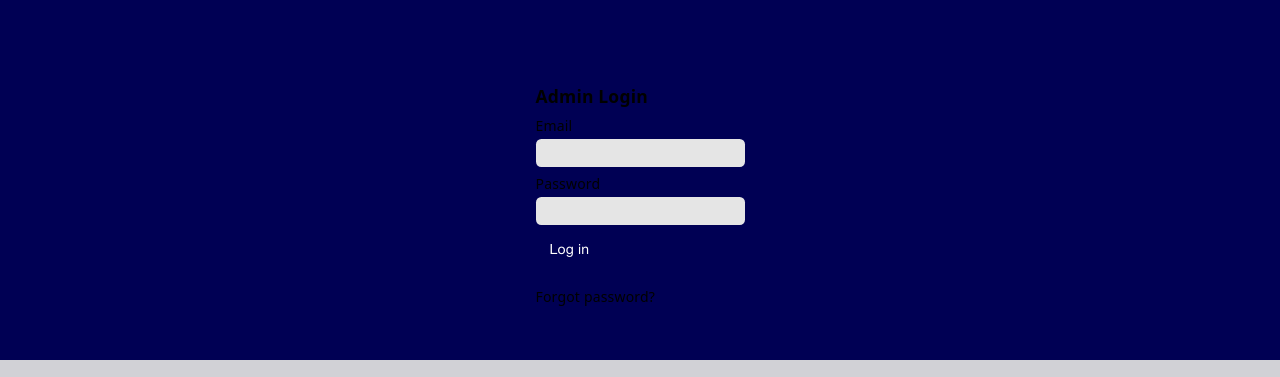
Test case: AdminLoginPage › logging in › shows the status when the server gives no error message
Type "admin@example.com" into the field labelled "Email" at (640, 153), box [536,139,744,167]
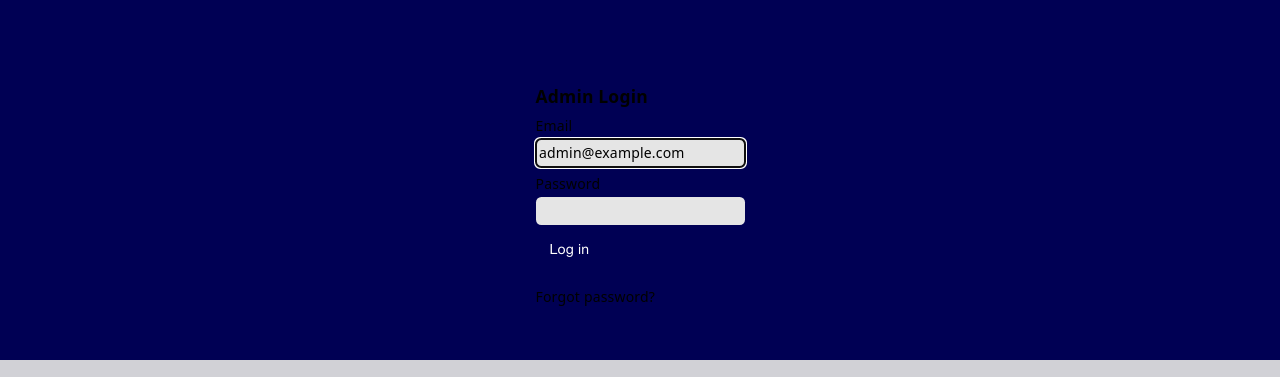
Type "secret123" into the password field labelled "Password" at (640, 211), box [536,197,744,225]
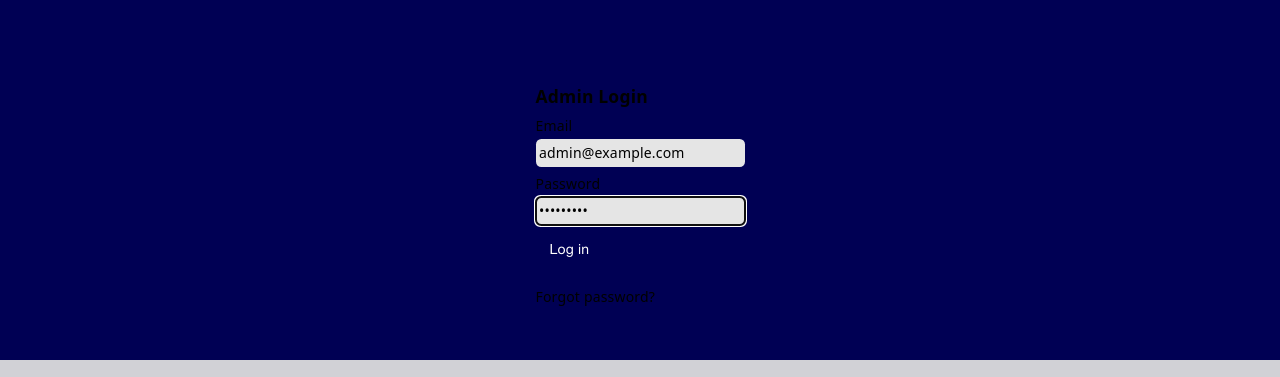
Click the button "Log in" at (569, 249), box [536,232,603,266]
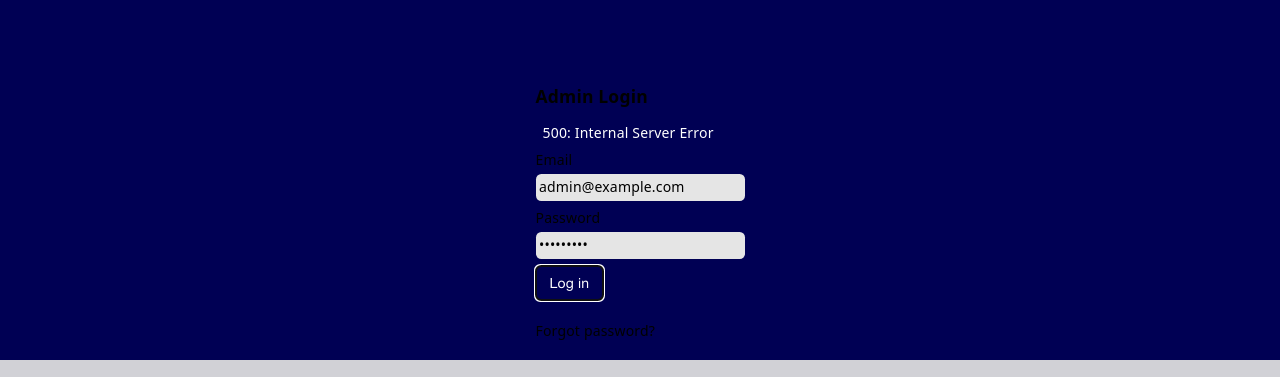
Now the text "500: Internal Server Error" is shown, box [536,116,744,150]
